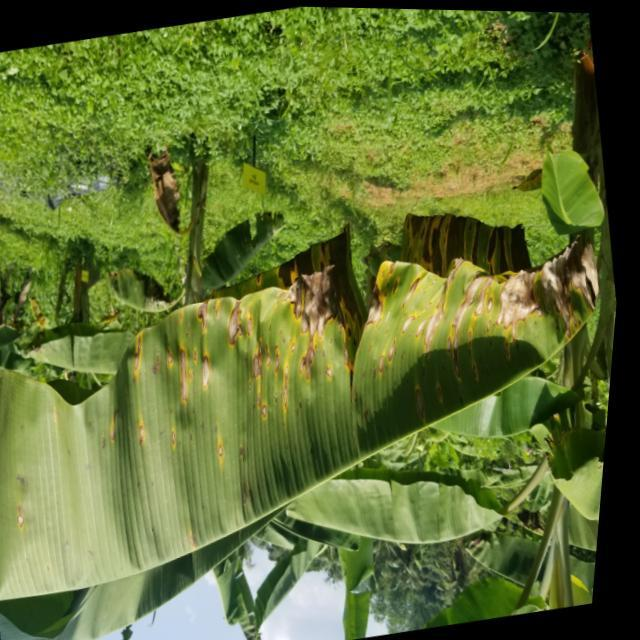Bract_mosaic_virus: (115, 128, 204, 239)
Early_rust: (0, 256, 605, 541), (556, 31, 598, 104)
